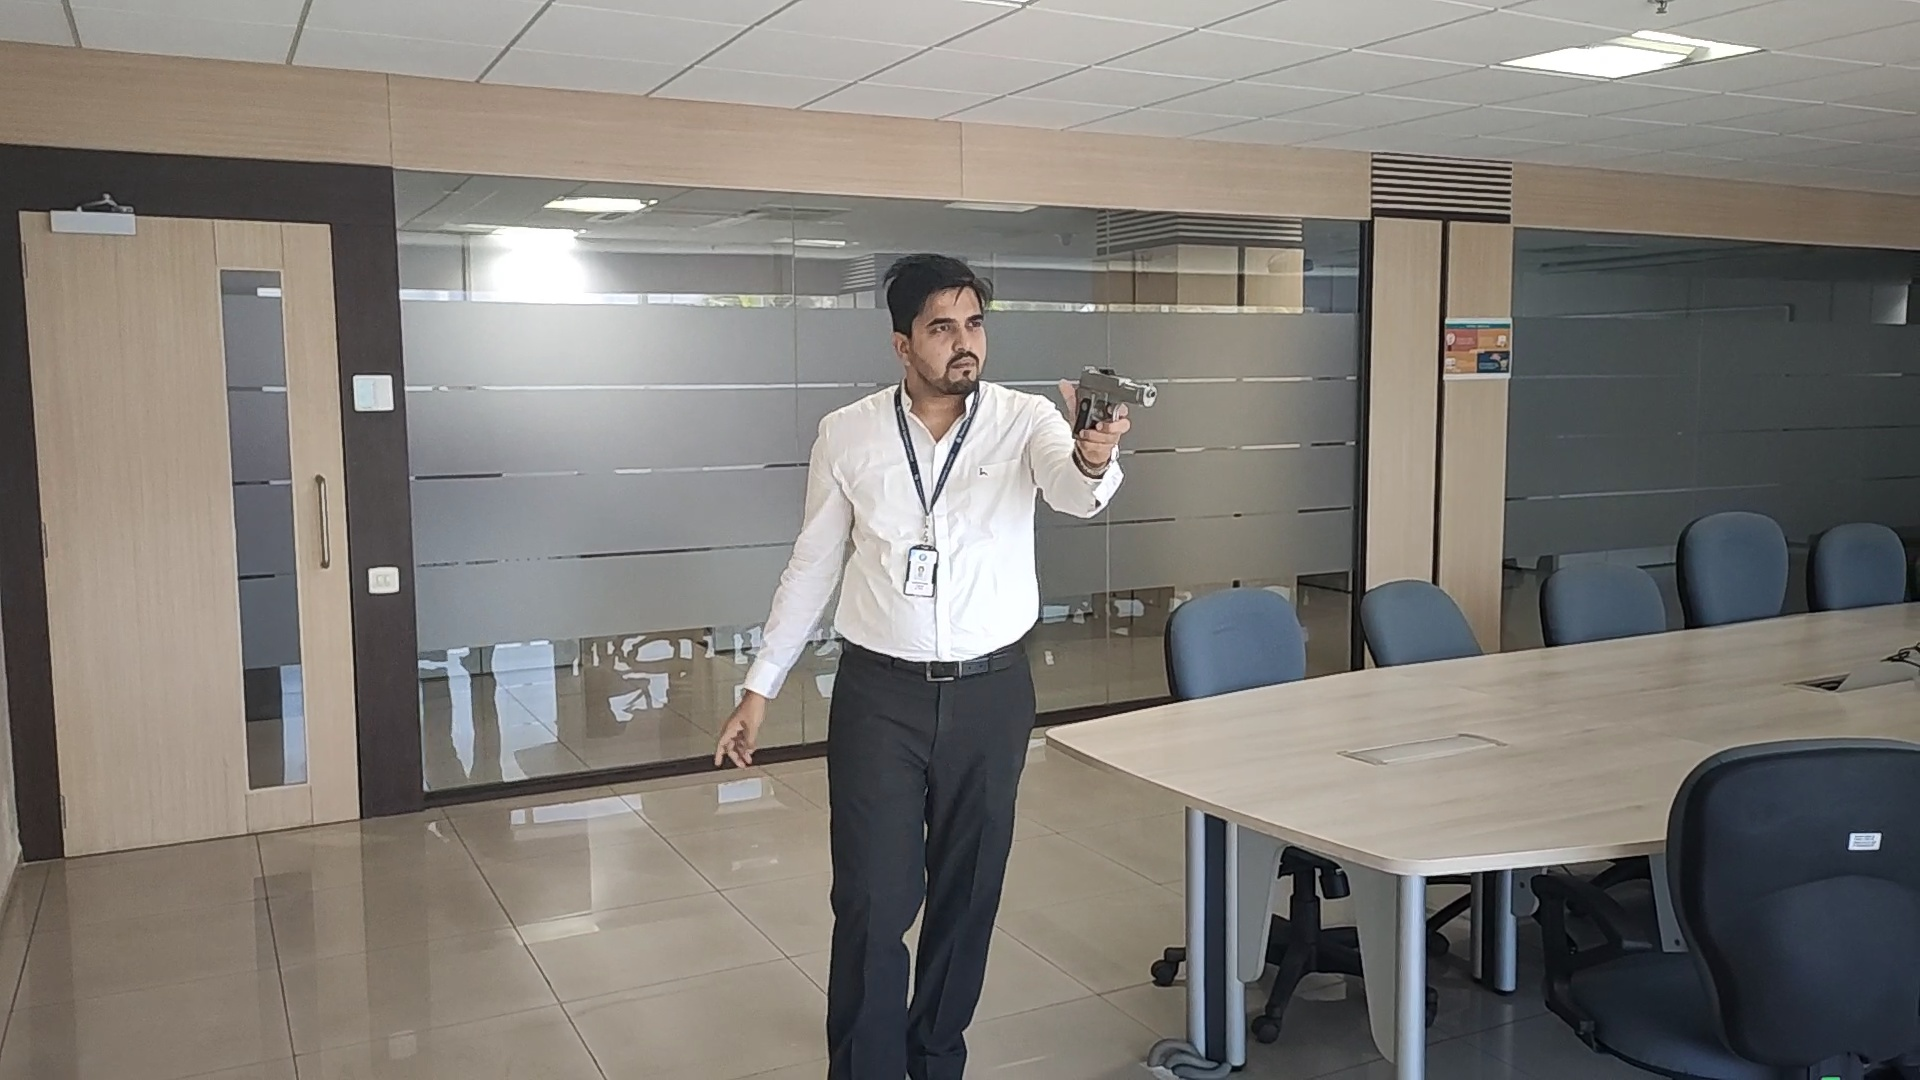gun: (1071, 364, 1159, 436)
